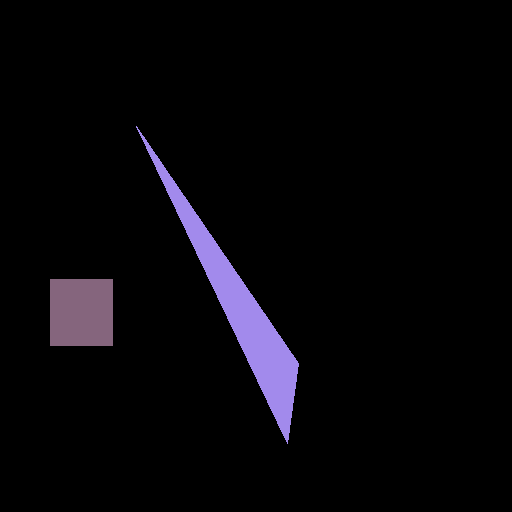square: (50, 279, 112, 345)
triangle: (136, 126, 298, 443)
